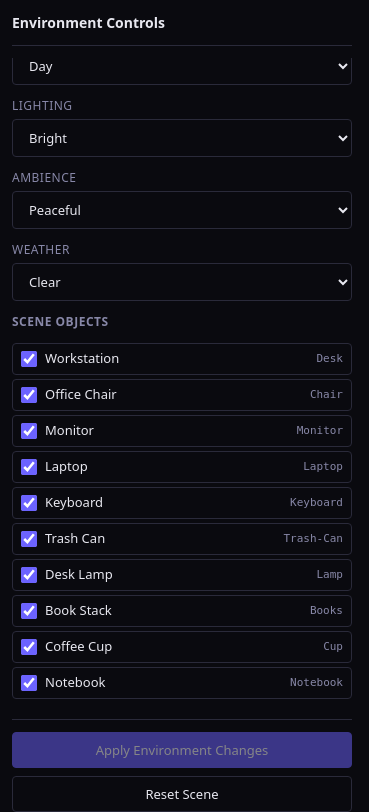
Scenario: EnvironmentControlPanel — Reset flow › shows reset-status success message after Reset
(page scrolled)
What coordinates should you click on to do the following:
click the button with test id "btn-reset-scene"
I would click on:
 (182, 794)
Its box is [12,776,352,811].
(page scrolled)
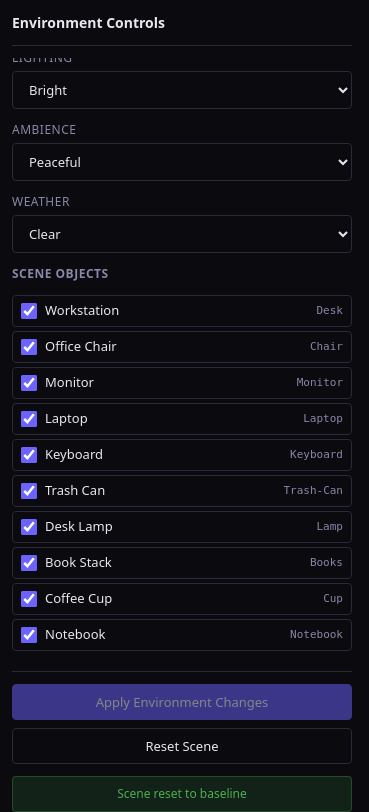
expect the message "Scene reset to baseline" is shown: met, box [12,776,352,811]
expect the message with test id "reset-status" reads "Scene reset to baseline": met, box [117,785,247,802]
